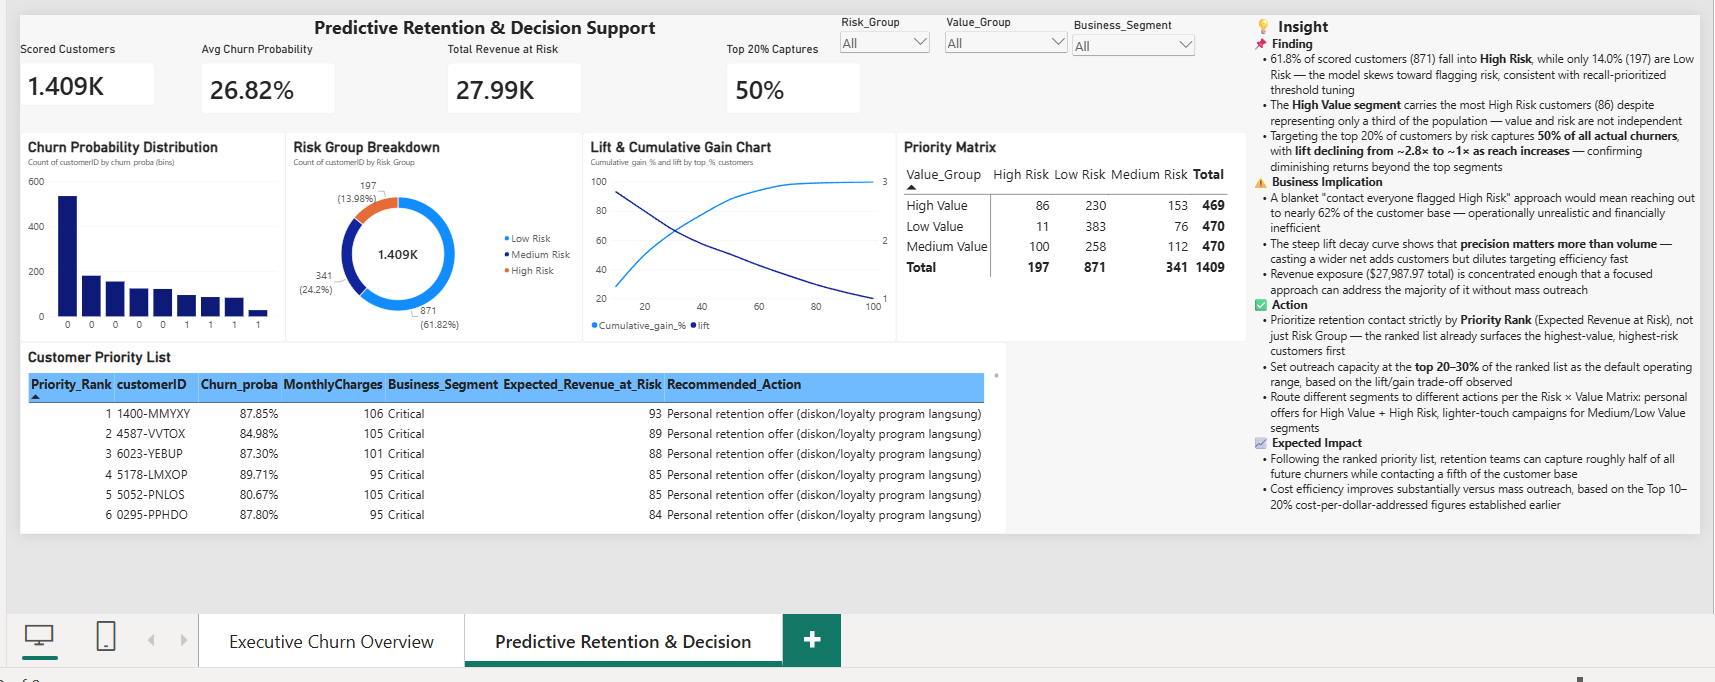

What the dashboard file says about the page in this screenshot:
{"tool":"powerbi","page":{"name":"Predictive Retention & Decision","canvas":[3500,1080],"ordinal":1},"visuals":[{"type":"textbox","box":[612.5,0,740,57.5],"z":0},{"type":"cardVisual","title":"Scored Customers","fields":{"Data":["Count(customer_retention_scoring.customerID)"]},"box":[0,57.5,280,132.5],"z":1000},{"type":"cardVisual","title":"Avg Churn Probability\t","fields":{"Data":["Avg(customer_retention_scoring.churn_proba)"]},"box":[378.1,56.2,280,150],"z":2000},{"type":"cardVisual","title":"Total Revenue at Risk","fields":{"Data":["Sum(retention_strategy_final.Expected_Revenue_at_Risk)"]},"box":[890.6,56.2,280,150],"z":3000},{"type":"cardVisual","title":"Top 20% Captures","fields":{"Data":["lift_gain_table.Top20_Capture_Label"]},"box":[1471.9,56.2,280,150],"z":4000},{"type":"clusteredColumnChart","title":"Churn Probability Distribution","fields":{"Y":["CountNonNull(customer_retention_scoring.customerID)"],"Category":["customer_retention_scoring.churn_proba (bins)"]},"box":[0,243.8,553.1,437.5],"z":5000},{"type":"donutChart","title":"Risk Group Breakdown","fields":{"Category":["customer_retention_scoring.Risk_Group"],"Y":["CountNonNull(customer_retention_scoring.customerID)"]},"box":[553.1,243.8,618.8,437.5],"z":6000},{"type":"pivotTable","title":"Priority Matrix","fields":{"Rows":["customer_retention_scoring.Value_Group"],"Columns":["customer_retention_scoring.Risk_Group"],"Values":["Count(customer_retention_scoring.customerID)"]},"box":[1825,243.8,731.2,437.5],"z":7000},{"type":"tableEx","title":"Customer Priority List","fields":{"Values":["Sum(customer_retention_scoring.Priority_Rank)","customer_retention_scoring.customerID","Sum(customer_retention_scoring.churn_proba)","Sum(customer_retention_scoring.MonthlyCharges)","customer_retention_scoring.Business_Segment","Sum(customer_retention_scoring.Expected_Revenue_at_Risk)","retention_strategy_final.Recommended_Action"]},"box":[0,681.2,2056.2,400],"z":8000},{"type":"lineChart","title":"Lift & Cumulative Gain Chart","fields":{"Category":["lift_gain_table.top_%_customers"],"Y":["Sum(lift_gain_table.cumulative_gain_%)"],"Y2":["Sum(lift_gain_table.lift)"]},"box":[1171.9,243.8,653.1,437.5],"z":9000},{"type":"slicer","fields":{"Values":["customer_retention_scoring.Risk_Group"]},"box":[1703.1,0,196.9,87.5],"z":10000},{"type":"slicer","fields":{"Values":["customer_retention_scoring.Value_Group"]},"box":[1921.9,0,265.6,87.5],"z":11000},{"type":"slicer","fields":{"Values":["retention_strategy_final.Business_Segment"]},"box":[2187.5,6.2,265.6,81.2],"z":12000},{"type":"textbox","box":[2570,0,930,1080],"z":13000}]}

Visuals, with their boxes on the page's 3500x1080 design canvas (x1, y1, x2, y2). These are canvas units, not pixel positions in the 1715x682 screenshot, which may show the page scaled, cropped or inside an application window:
textbox: (612, 0, 1352, 58)
"Scored Customers" cardVisual: (0, 58, 280, 190)
"Avg Churn Probability	" cardVisual: (378, 56, 658, 206)
"Total Revenue at Risk" cardVisual: (891, 56, 1171, 206)
"Top 20% Captures" cardVisual: (1472, 56, 1752, 206)
"Churn Probability Distribution" clusteredColumnChart: (0, 244, 553, 681)
"Risk Group Breakdown" donutChart: (553, 244, 1172, 681)
"Priority Matrix" pivotTable: (1825, 244, 2556, 681)
"Customer Priority List" tableEx: (0, 681, 2056, 1081)
"Lift & Cumulative Gain Chart" lineChart: (1172, 244, 1825, 681)
slicer - customer_retention_scoring.Risk_Group: (1703, 0, 1900, 88)
slicer - customer_retention_scoring.Value_Group: (1922, 0, 2188, 88)
slicer - retention_strategy_final.Business_Segment: (2188, 6, 2453, 87)
textbox: (2570, 0, 3500, 1080)
